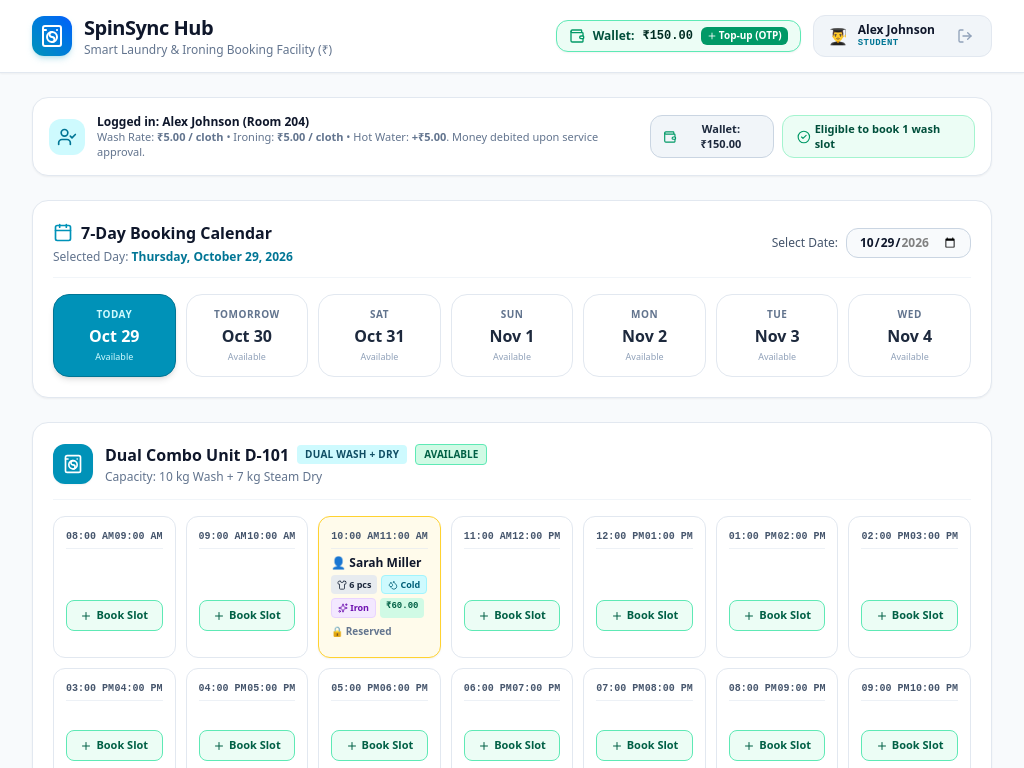
Test case: Module: Wallet & OTP Recharge (Excluding Login) › successfully credits wallet when correct OTP is entered
Open wallet modal
Click the button titled "View & Recharge Student Wallet with OTP".
click(678, 36)  # box [556, 20, 801, 52]
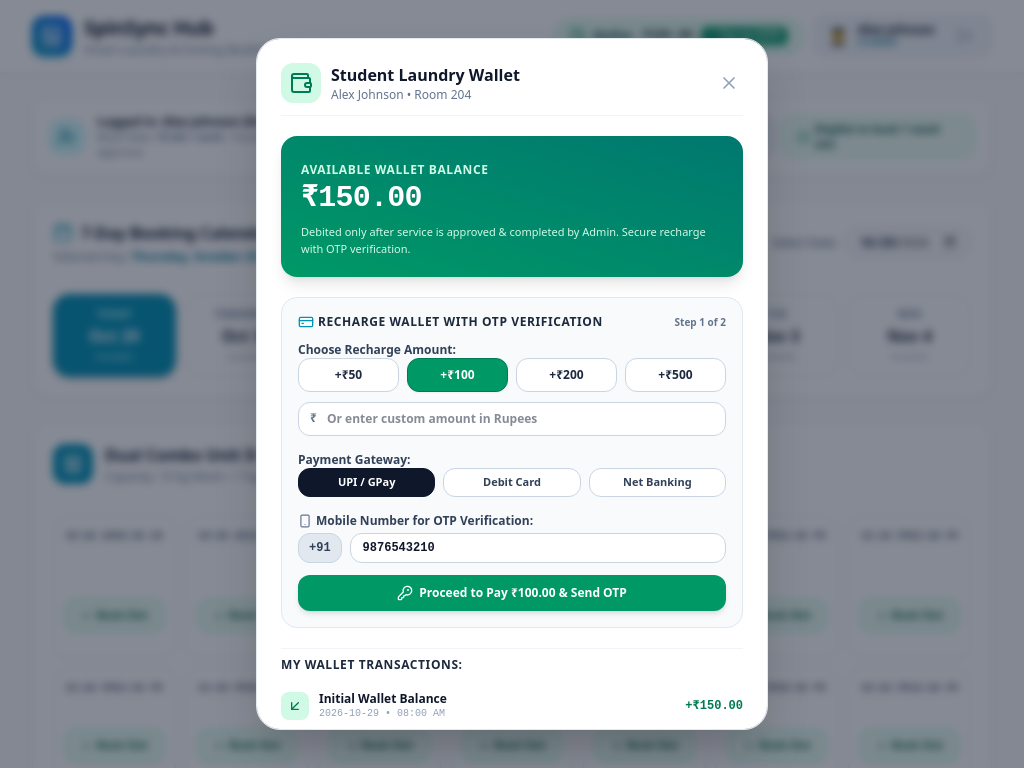
Expected: the heading "Student Laundry Wallet" is shown, [331, 63, 520, 87]
Select +₹200
Click the button "+₹200".
click(566, 375)  # box [516, 358, 617, 392]
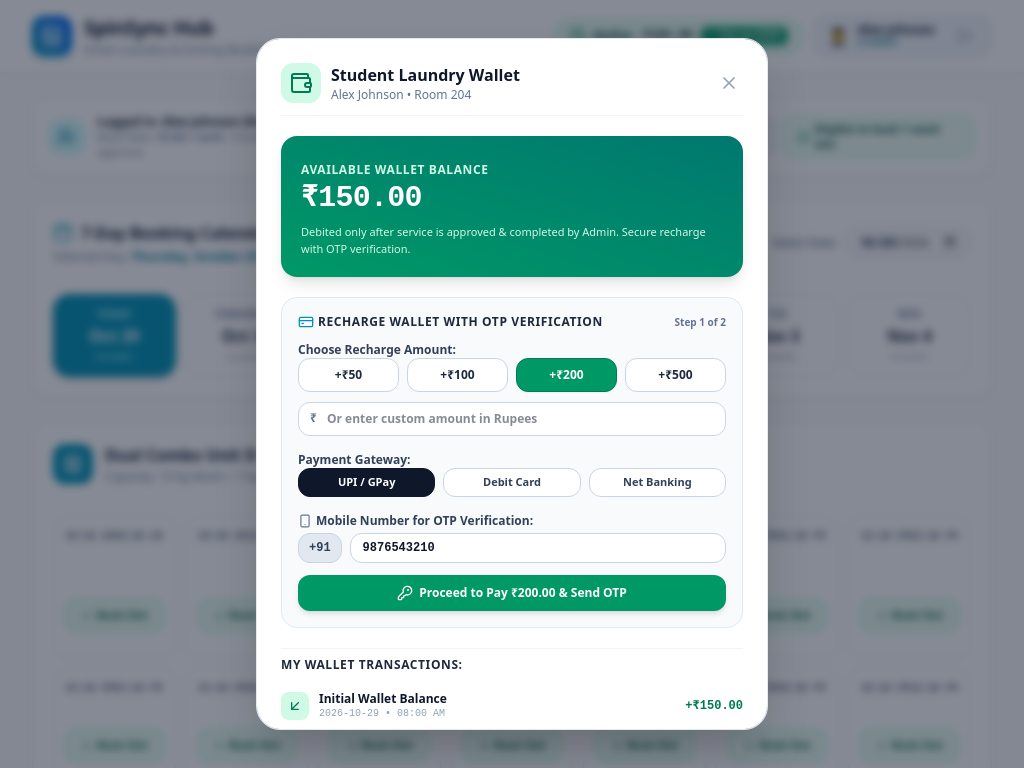
Proceed to OTP
Click the button "Proceed to Pay ₹200.00 & Send OTP".
click(512, 593)  # box [298, 575, 726, 611]
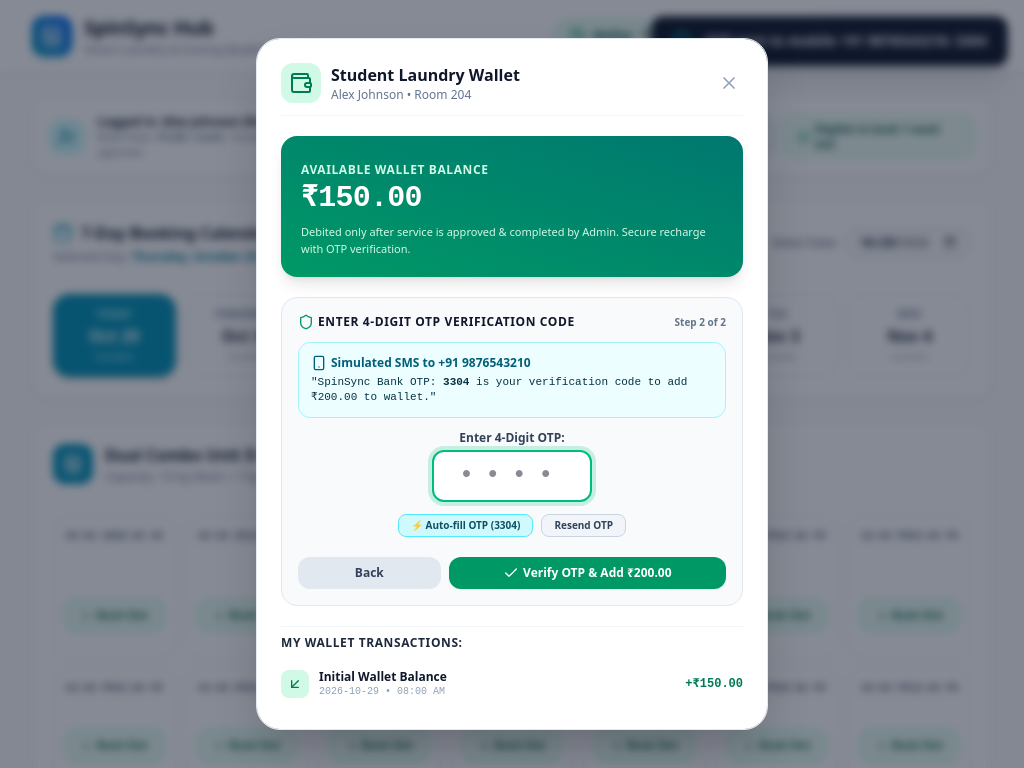
Expected: the heading "Enter 4-Digit OTP Verification Code" is shown, [298, 314, 575, 330]
Click Auto-fill OTP
Click the button "⚡ Auto-fill OTP (3304)".
click(466, 525)  # box [398, 514, 534, 537]
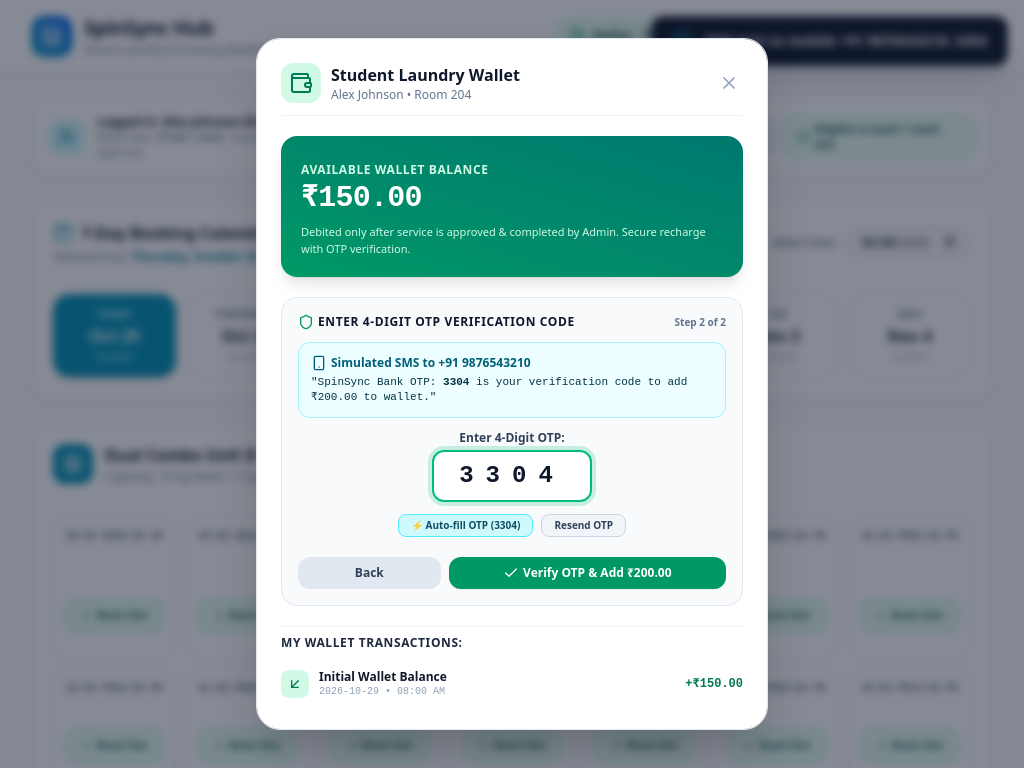
Click verify
Click the button "Verify OTP & Add ₹200.00".
click(587, 573)  # box [449, 557, 726, 589]
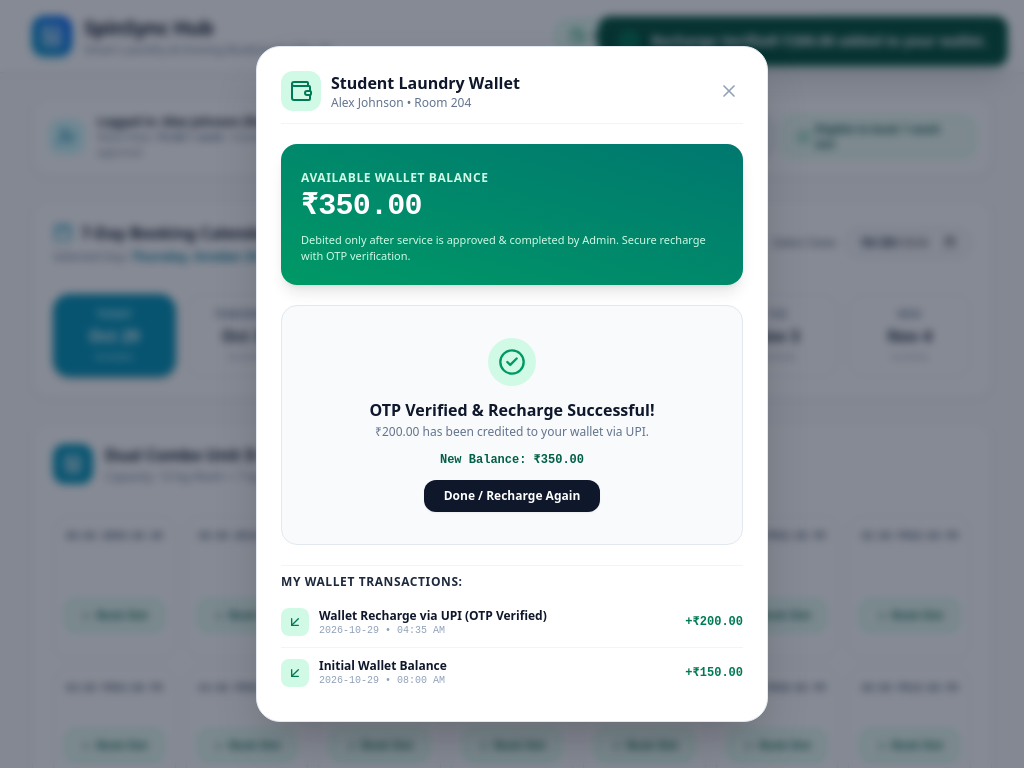
Expected: the heading "OTP Verified & Recharge Successful!" is shown, [370, 399, 654, 421]
Expected: the text "₹350.00" in the row of "SpinSync Hub" is shown, [642, 28, 693, 44]
